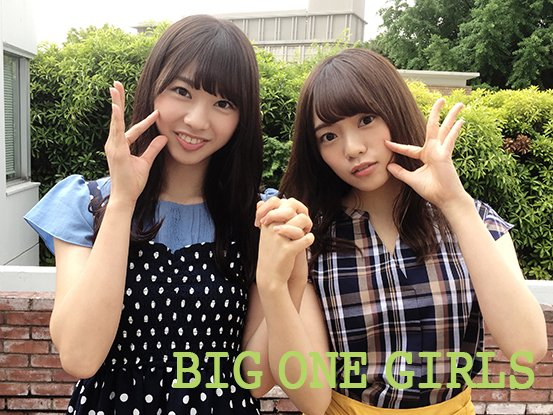face: (154, 51, 240, 165), (312, 100, 395, 191)
hand: (385, 98, 469, 202), (105, 79, 168, 196), (255, 195, 313, 281)
